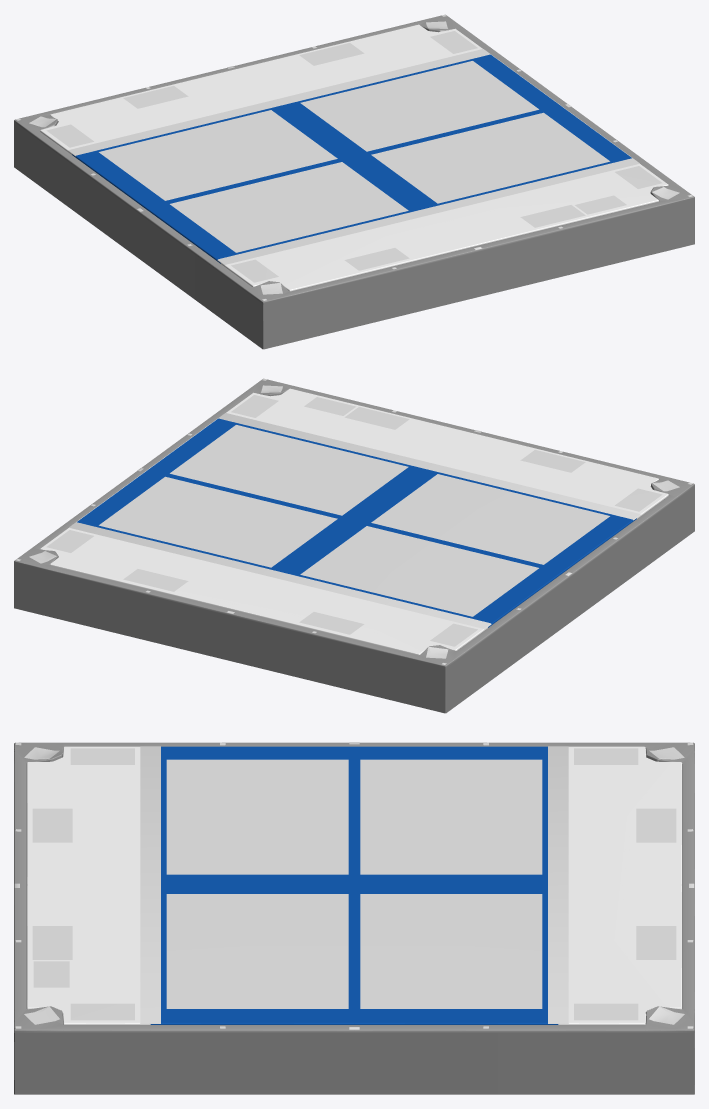
File: 2x2Floor.fbx
The picture shows the model from 3 angles, top to bottom: view 1: azimuth 30°, elevation 25°; view 2: azimuth 150°, elevation 25°; view 3: azimuth 270°, elevation 25°; orthographic projection. The views are drawn at different scales.
Parts seen in each view (by area): view 1: Cube.060, StylizedHardSurface_Decals_062.003_projected, StylizedHardSurface_Panels_002.015_projected, StylizedHardSurface_Decals_032.003_projected, StylizedHardSurface_Decals_027.003_projected, StylizedHardSurface_Decals_020.003_projected, StylizedHardSurface_Decals_063.003_projected; view 2: Cube.060, StylizedHardSurface_Decals_062.003_projected, StylizedHardSurface_Panels_002.015_projected, StylizedHardSurface_Decals_032.003_projected, StylizedHardSurface_Decals_027.003_projected, StylizedHardSurface_Decals_020.003_projected, StylizedHardSurface_Decals_063.003_projected; view 3: Cube.060, StylizedHardSurface_Decals_062.003_projected, StylizedHardSurface_Panels_002.015_projected, StylizedHardSurface_Decals_032.003_projected, StylizedHardSurface_Decals_027.003_projected, StylizedHardSurface_Decals_020.003_projected, StylizedHardSurface_Decals_063.003_projected.
Part boxes in pixels (x1=…): Cube.060: x1=14, y1=14, x2=694, y2=349; StylizedHardSurface_Decals_062.003_projected: x1=99, y1=61, x2=609, y2=252; StylizedHardSurface_Panels_002.015_projected: x1=68, y1=49, x2=639, y2=265; StylizedHardSurface_Decals_032.003_projected: x1=123, y1=43, x2=585, y2=270; StylizedHardSurface_Decals_027.003_projected: x1=46, y1=31, x2=662, y2=282; StylizedHardSurface_Decals_020.003_projected: x1=29, y1=21, x2=679, y2=294; StylizedHardSurface_Decals_063.003_projected: x1=575, y1=195, x2=626, y2=214; Cube.060: x1=14, y1=378, x2=694, y2=713; StylizedHardSurface_Decals_062.003_projected: x1=99, y1=425, x2=609, y2=616; StylizedHardSurface_Panels_002.015_projected: x1=69, y1=413, x2=640, y2=629; StylizedHardSurface_Decals_032.003_projected: x1=123, y1=407, x2=585, y2=634; StylizedHardSurface_Decals_027.003_projected: x1=46, y1=395, x2=662, y2=646; StylizedHardSurface_Decals_020.003_projected: x1=29, y1=385, x2=679, y2=658; StylizedHardSurface_Decals_063.003_projected: x1=304, y1=397, x2=356, y2=415; Cube.060: x1=14, y1=742, x2=694, y2=1094; StylizedHardSurface_Decals_062.003_projected: x1=166, y1=759, x2=542, y2=1008; StylizedHardSurface_Panels_002.015_projected: x1=140, y1=746, x2=568, y2=1023; StylizedHardSurface_Decals_032.003_projected: x1=32, y1=808, x2=676, y2=959; StylizedHardSurface_Decals_027.003_projected: x1=70, y1=748, x2=638, y2=1020; StylizedHardSurface_Decals_020.003_projected: x1=24, y1=747, x2=684, y2=1024; StylizedHardSurface_Decals_063.003_projected: x1=33, y1=961, x2=69, y2=987.
Size of the model in its own units: 200 by 22.15 by 200.
